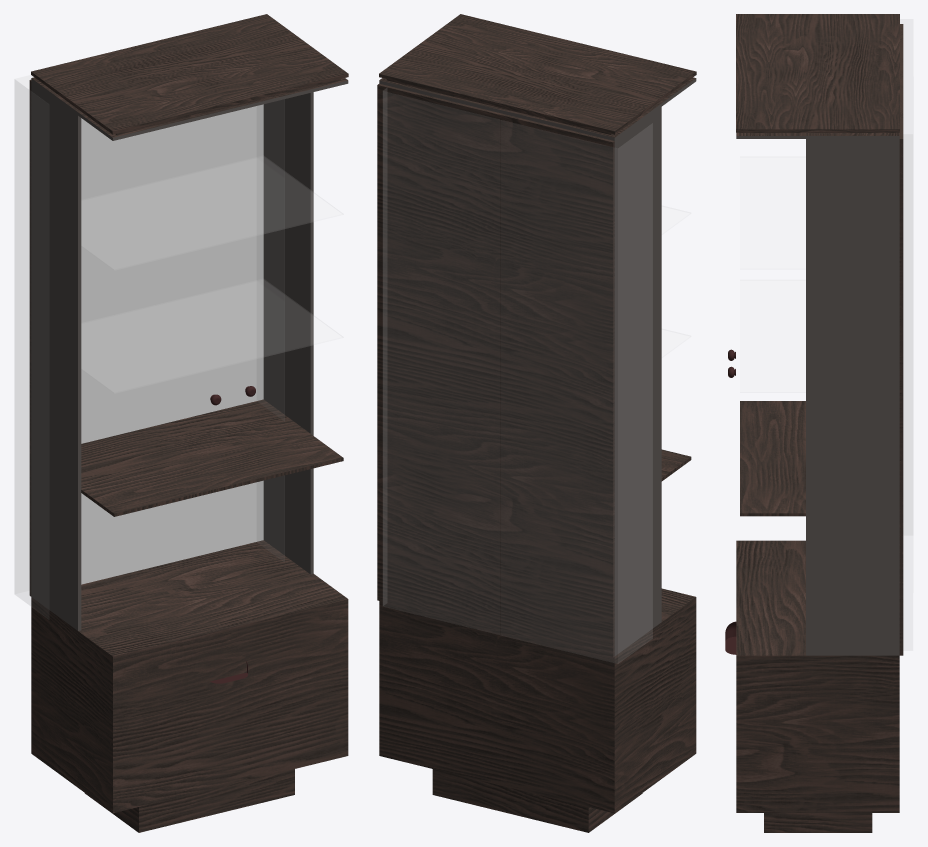
Rendered from CRISTALEIRA2.glb.
The picture shows the model from 3 angles, left to right: view 1: azimuth 30°, elevation 25°; view 2: azimuth 150°, elevation 25°; view 3: azimuth 270°, elevation 25°; orthographic projection.
Parts seen in each view (by area): view 1: Plane, Plane.012, Plane.005, Plane.027, Plane.010, Plane.004, Plane.015, Plane.014, Plane.003; view 2: Plane.009, Plane.015, Plane.014, Plane, Plane.027, Plane.010, Plane.003, Plane.005; view 3: Plane.004, Plane, Plane.010, Plane.005, Plane.014, Plane.009, Plane.015, Plane.003.
Part boxes in pixels (<box>): Plane: <box>29,80,348,832</box>; Plane.012: <box>81,104,263,584</box>; Plane.005: <box>82,158,341,392</box>; Plane.027: <box>31,81,81,630</box>; Plane.010: <box>31,14,348,137</box>; Plane.004: <box>263,92,313,574</box>; Plane.015: <box>14,75,48,618</box>; Plane.014: <box>257,100,284,561</box>; Plane.003: <box>31,78,348,140</box>; Plane.009: <box>377,84,614,657</box>; Plane.015: <box>501,120,652,663</box>; Plane.014: <box>383,89,499,634</box>; Plane: <box>378,83,696,832</box>; Plane.027: <box>614,107,661,656</box>; Plane.010: <box>379,14,696,137</box>; Plane.003: <box>379,78,696,140</box>; Plane.005: <box>662,206,690,356</box>; Plane.004: <box>806,139,899,655</box>; Plane: <box>736,24,903,832</box>; Plane.010: <box>736,14,899,135</box>; Plane.005: <box>740,157,805,391</box>; Plane.014: <box>904,134,912,650</box>; Plane.009: <box>899,24,903,655</box>; Plane.015: <box>900,19,912,133</box>; Plane.003: <box>736,136,899,138</box>.
Bounding box in the file's own units: 0.7885 × 2.21 × 0.5211.
Materials: 6 (1 with a texture image).
